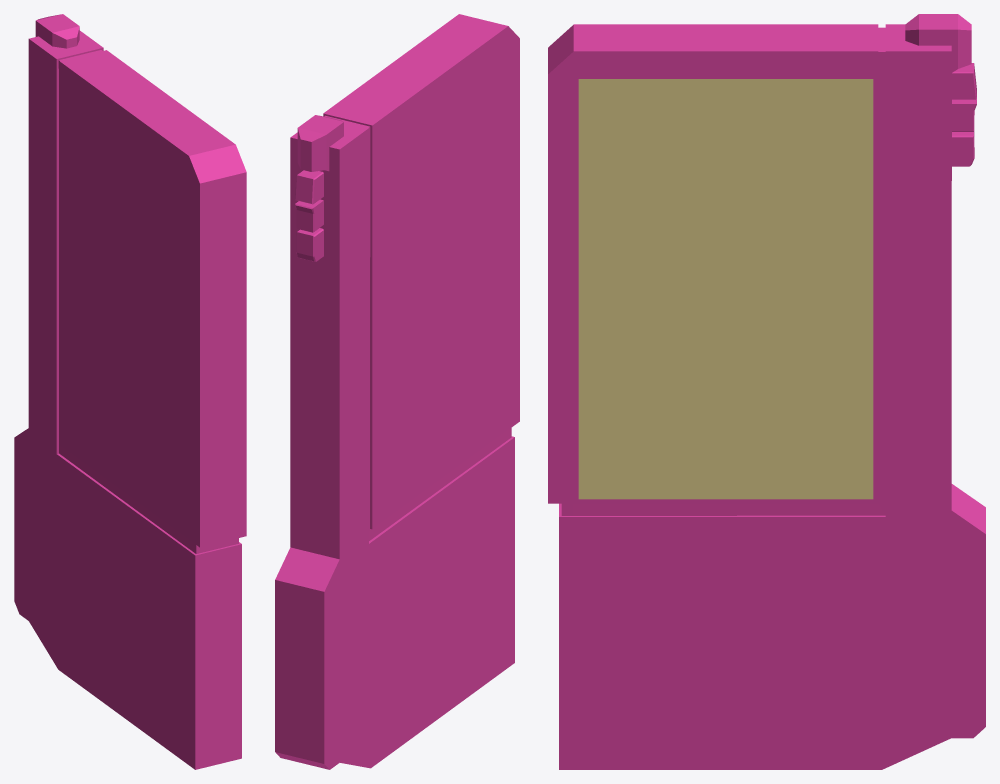
The model's file is cassette_real 1.fbx.
The picture shows the model from 3 angles, left to right: view 1: azimuth 30°, elevation 25°; view 2: azimuth 150°, elevation 25°; view 3: azimuth 270°, elevation 25°; orthographic projection. The views are drawn at different scales.
Visible parts, largest first — view 1: recorder; view 2: recorder, button; view 3: recorder, button.
Part boxes in pixels (x1,y1,x2,y2): recorder: [14, 14, 246, 769]; recorder: [275, 14, 519, 769]; button: [295, 170, 323, 204]; recorder: [548, 14, 985, 769]; button: [952, 63, 976, 99].
Size of the model in its own units: 74.13 by 943 by 509.
